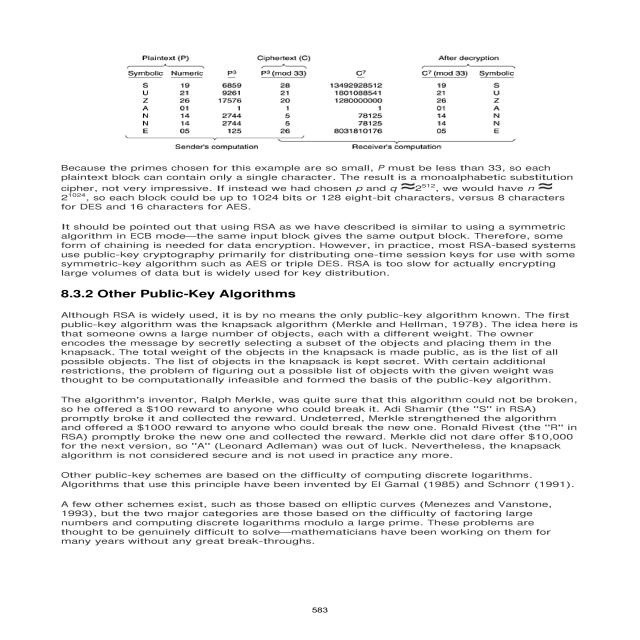diagram: (90, 13, 524, 148)
